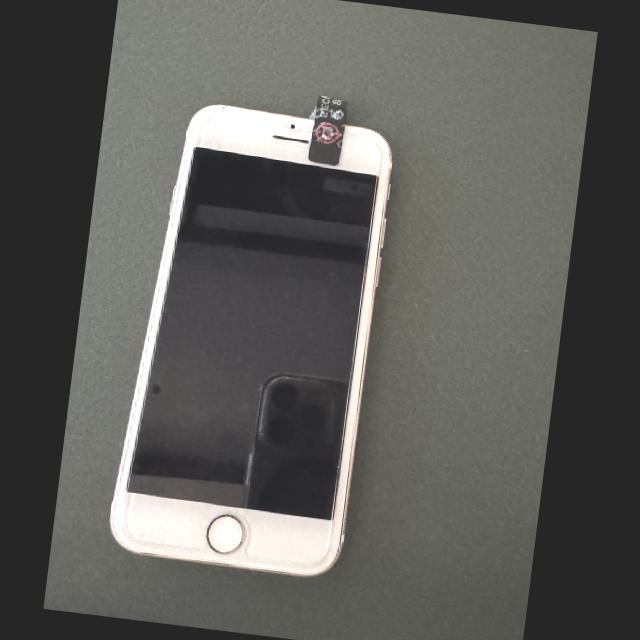lens: (290, 124, 295, 128)
phone: (110, 105, 391, 576)
sticker: (306, 94, 348, 166)
